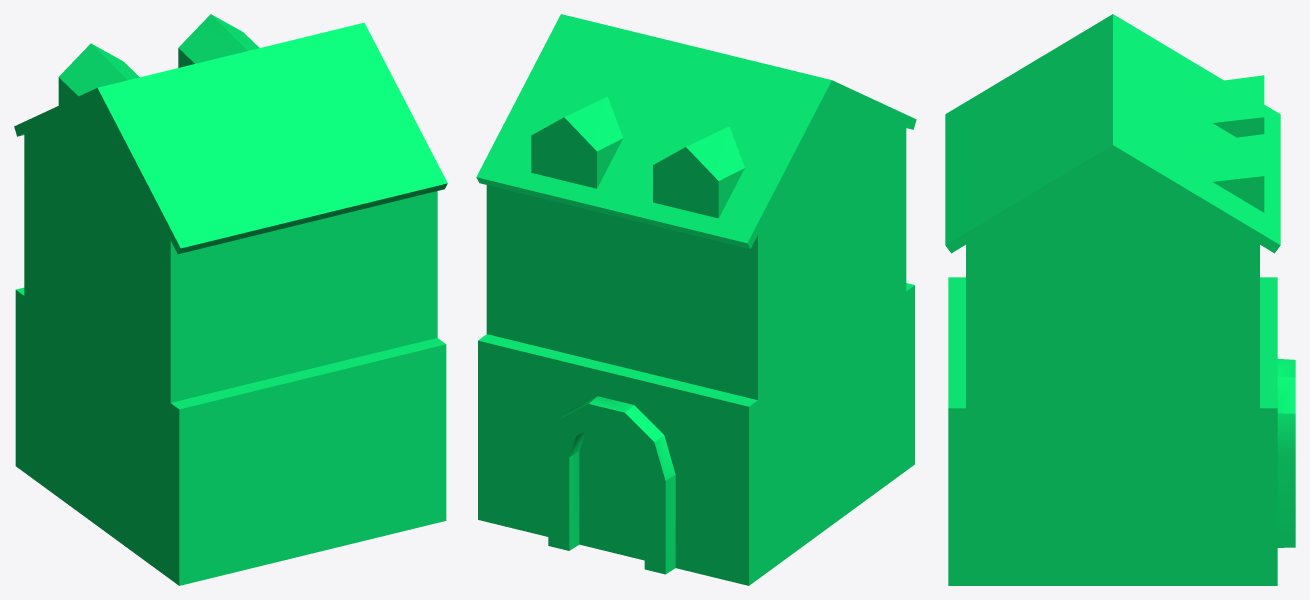
Rendered from Garnison2_Collision.FBX.
3 renders of one model, left to right at view 1: azimuth 30°, elevation 25°; view 2: azimuth 150°, elevation 25°; view 3: azimuth 270°, elevation 25°, orthographic.
Parts seen in each view (by area): view 1: Garnison2_Collision; view 2: Garnison2_Collision; view 3: Garnison2_Collision.
Part boxes in pixels (x1=…): Garnison2_Collision: x1=14, y1=14, x2=447, y2=585; Garnison2_Collision: x1=476, y1=14, x2=916, y2=585; Garnison2_Collision: x1=945, y1=14, x2=1295, y2=585.
Bounding box in the file's own units: 9.76 × 15.31 × 11.03.
